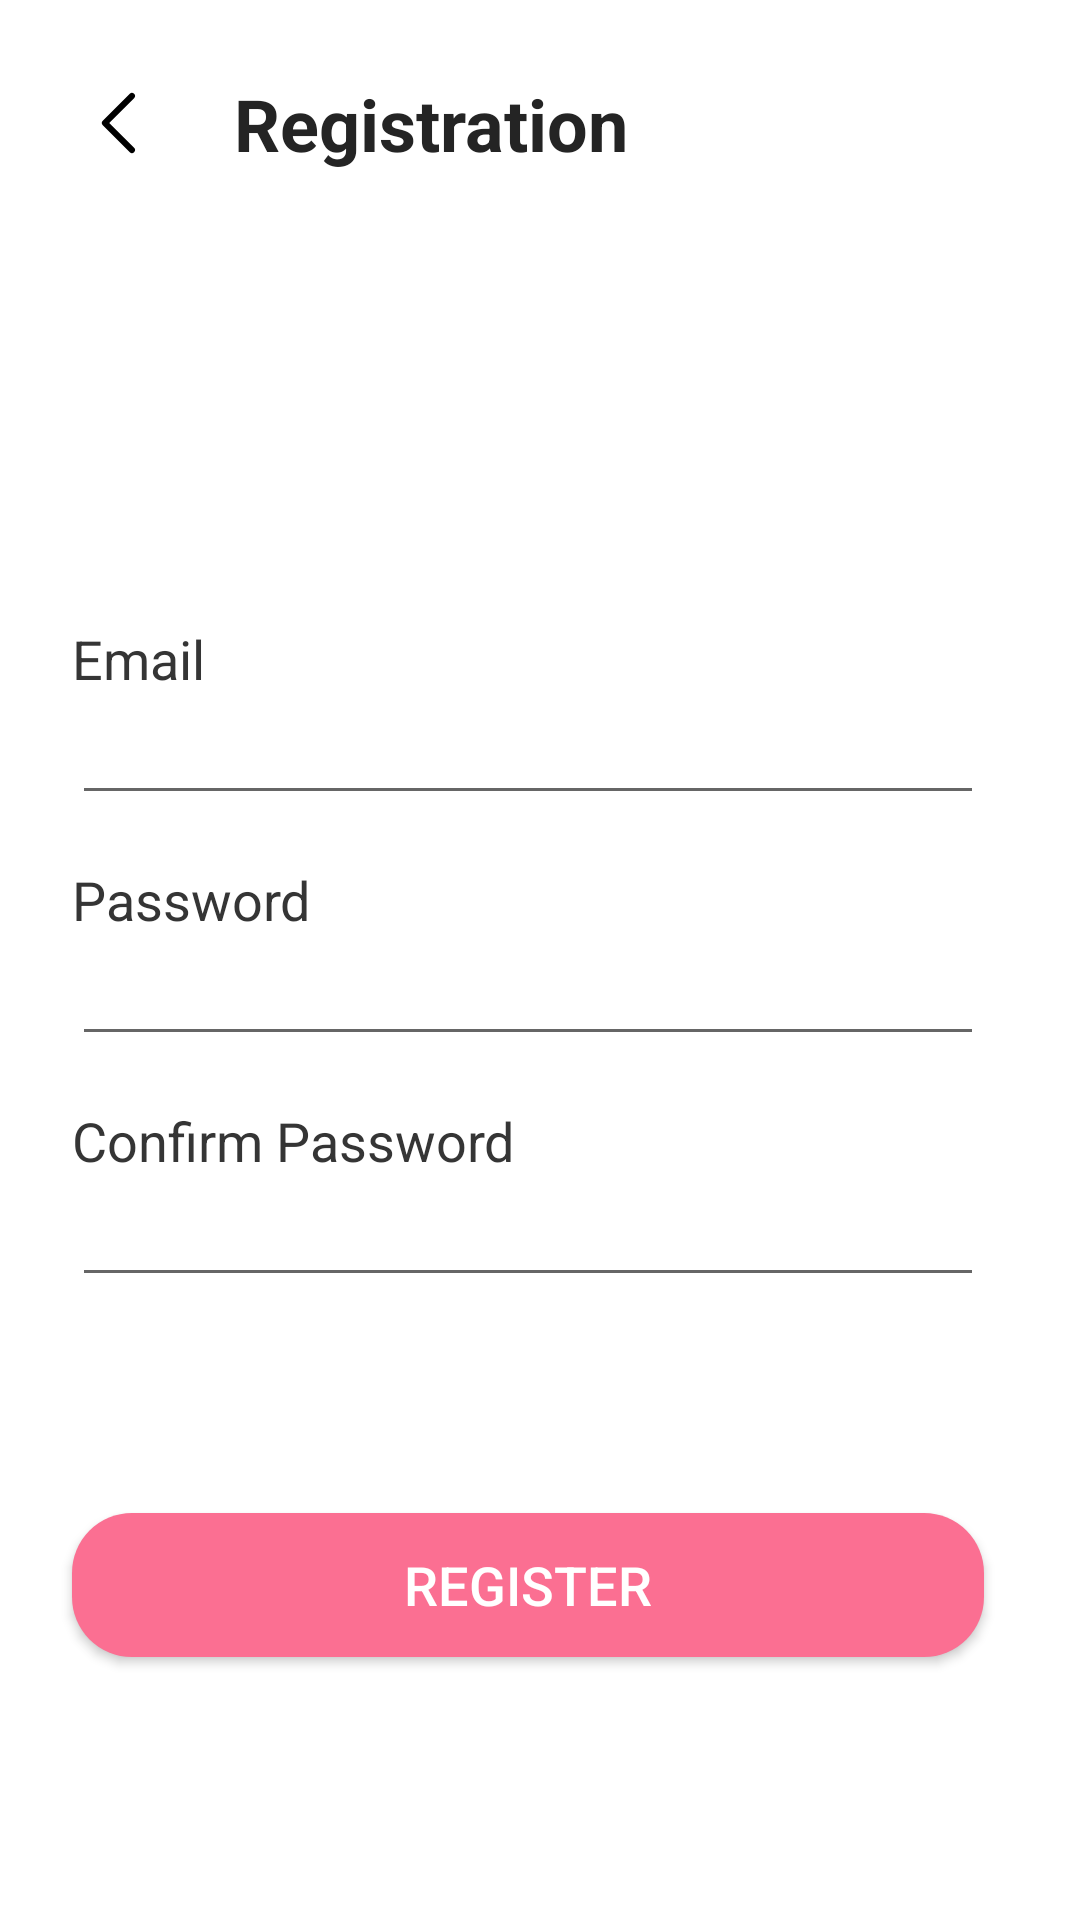

Where icons sit on this 1080px x 1920px app screen, as [x1=x1, y1=y1, x2=x2, y2=y2]:
left arrow: [x1=101, y1=92, x2=135, y2=154]
